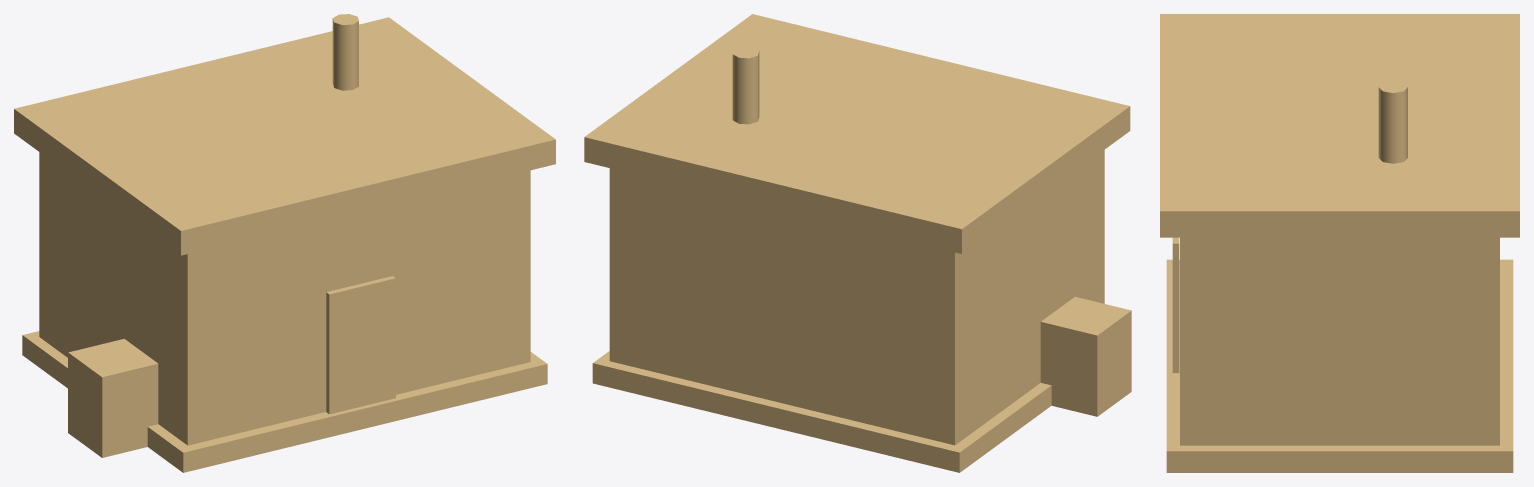
File: SoilLaboratory.glb
3 views of the same model, side by side, from view 1: azimuth 30°, elevation 25°; view 2: azimuth 150°, elevation 25°; view 3: azimuth 270°, elevation 25° (orthographic). The views are drawn at different scales.
Visible parts, largest first — view 1: hand-pump-static-soil-lab-wall, hand-pump-static-soil-lab-roof, hand-pump-static-soil-lab-timber, hand-pump-static-soil-lab-stone; view 2: hand-pump-static-soil-lab-wall, hand-pump-static-soil-lab-roof, hand-pump-static-soil-lab-stone, hand-pump-static-soil-lab-timber; view 3: hand-pump-static-soil-lab-roof, hand-pump-static-soil-lab-wall, hand-pump-static-soil-lab-stone, hand-pump-static-soil-lab-timber.
Part boxes in pixels (<box>): hand-pump-static-soil-lab-wall: <box>39,152,530,445</box>; hand-pump-static-soil-lab-roof: <box>14,14,555,255</box>; hand-pump-static-soil-lab-timber: <box>68,276,395,457</box>; hand-pump-static-soil-lab-stone: <box>22,331,547,472</box>; hand-pump-static-soil-lab-wall: <box>609,150,1104,445</box>; hand-pump-static-soil-lab-roof: <box>584,14,1130,253</box>; hand-pump-static-soil-lab-stone: <box>592,351,1051,472</box>; hand-pump-static-soil-lab-timber: <box>1040,296,1131,416</box>; hand-pump-static-soil-lab-roof: <box>1160,14,1519,237</box>; hand-pump-static-soil-lab-wall: <box>1180,237,1499,445</box>; hand-pump-static-soil-lab-stone: <box>1166,259,1513,472</box>; hand-pump-static-soil-lab-timber: <box>1172,237,1179,372</box>.
Size of the model in its own units: 3.88 by 2.78 by 2.7.
